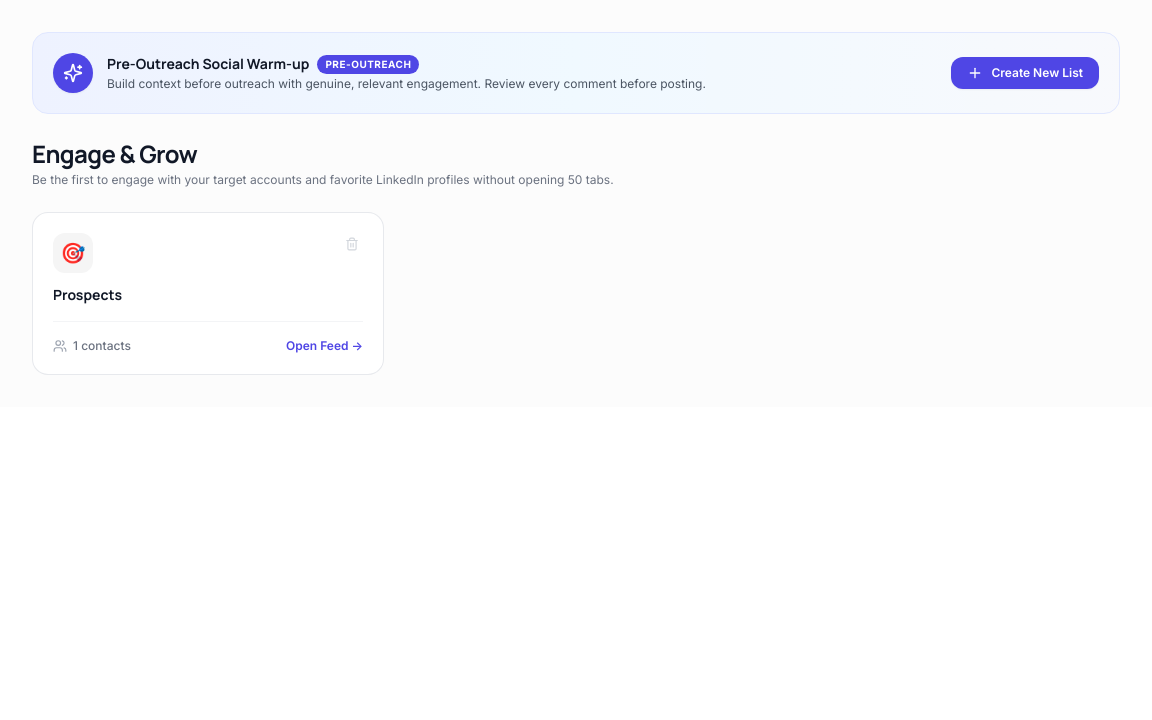
Engage review and reporting › displays per-contact warm-up readiness badges, progress bar, and pushes contacts to a campaign
Later steps or results of the test are not shown.
Click the element showing "🎯 Prospects 1 contacts Open Feed →".
click(208, 294)  # box x1=32 y1=212 x2=384 y2=375
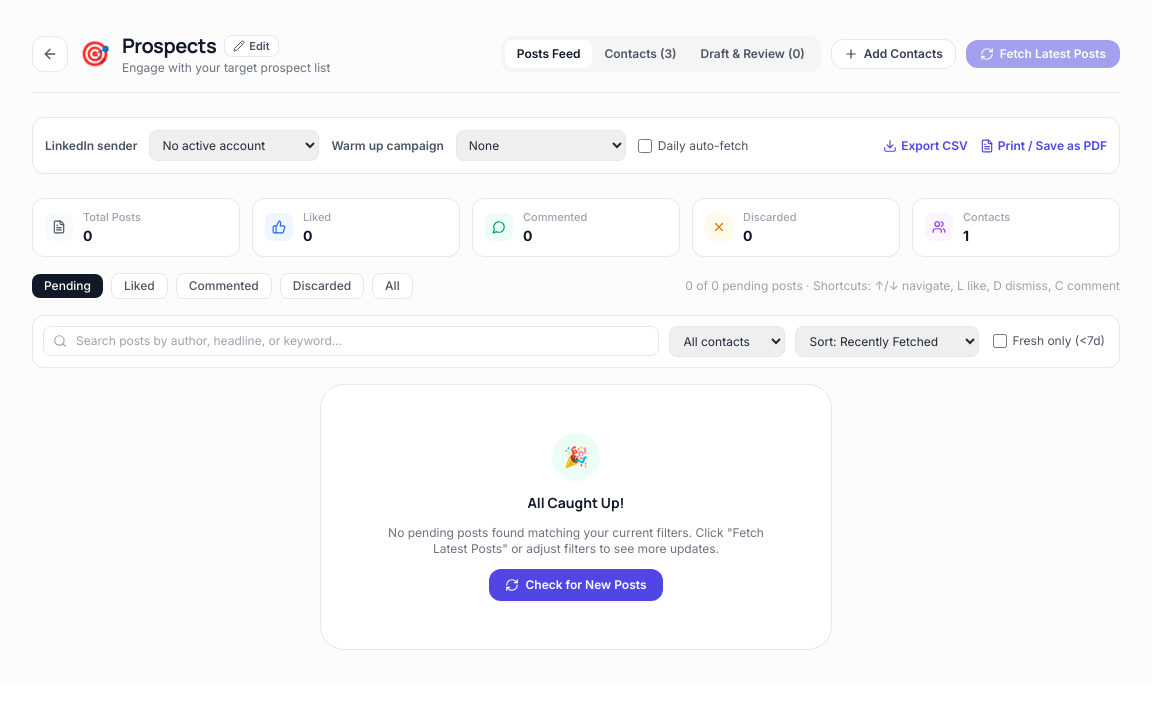
Click the button "Contacts (3)".
click(640, 54)  # box x1=592 y1=40 x2=688 y2=68
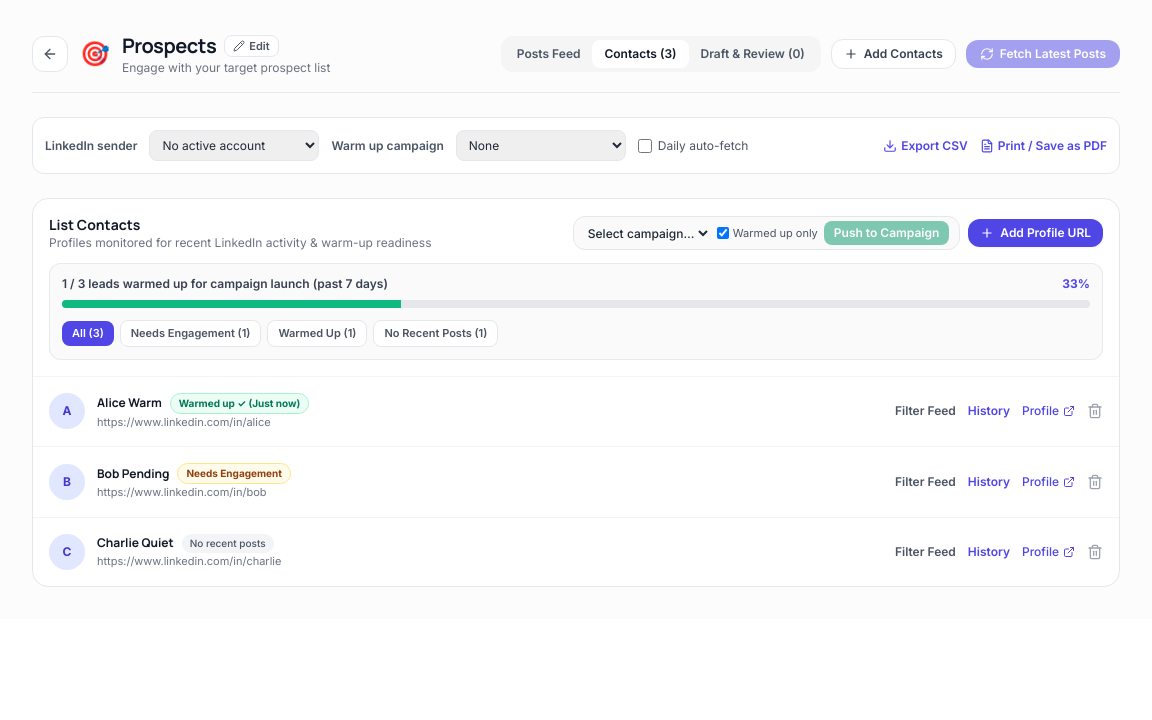
Now the text "1 / 3 leads warmed up for campaign launch" is shown, box x1=62 y1=276 x2=388 y2=292
Now the text "Warmed up ✓" is shown, box x1=179 y1=396 x2=246 y2=408
Now the text "Needs Engagement" is shown, box x1=120 y1=320 x2=262 y2=346
